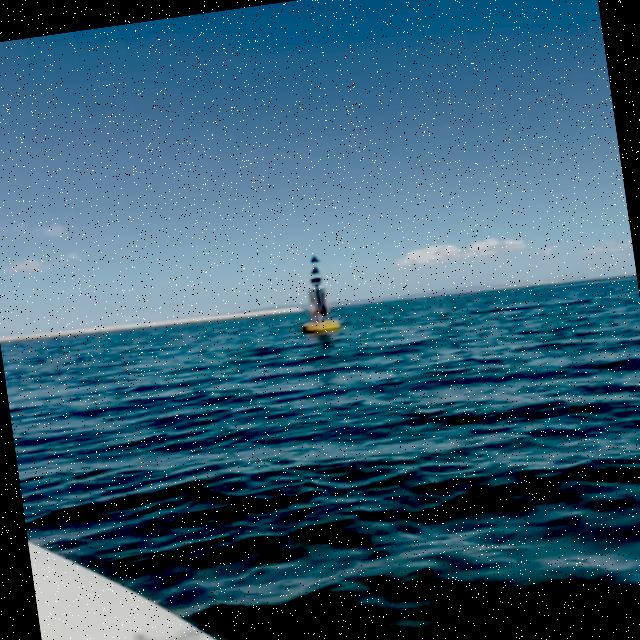marque: (295, 255, 340, 335)
